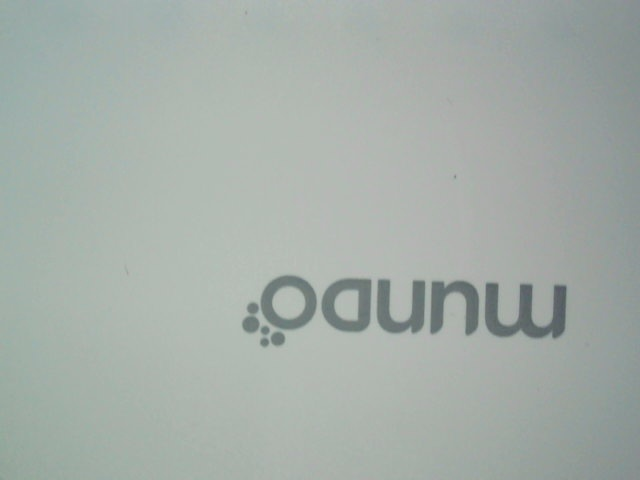BI_MUNDO: (230, 265, 571, 357)
